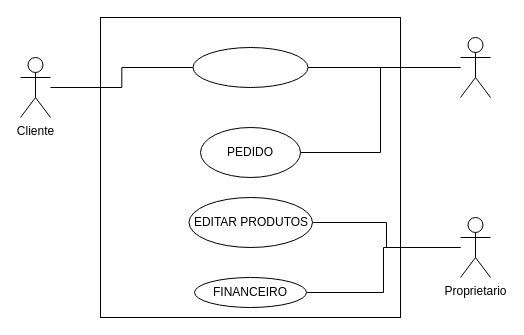
Image size: 524x335. Some labels were removed from this diagram. Each missing label, with the centre of its shape:
"Atendente" goes at (x=475, y=67).
"LOCAL" goes at (x=250, y=67).
